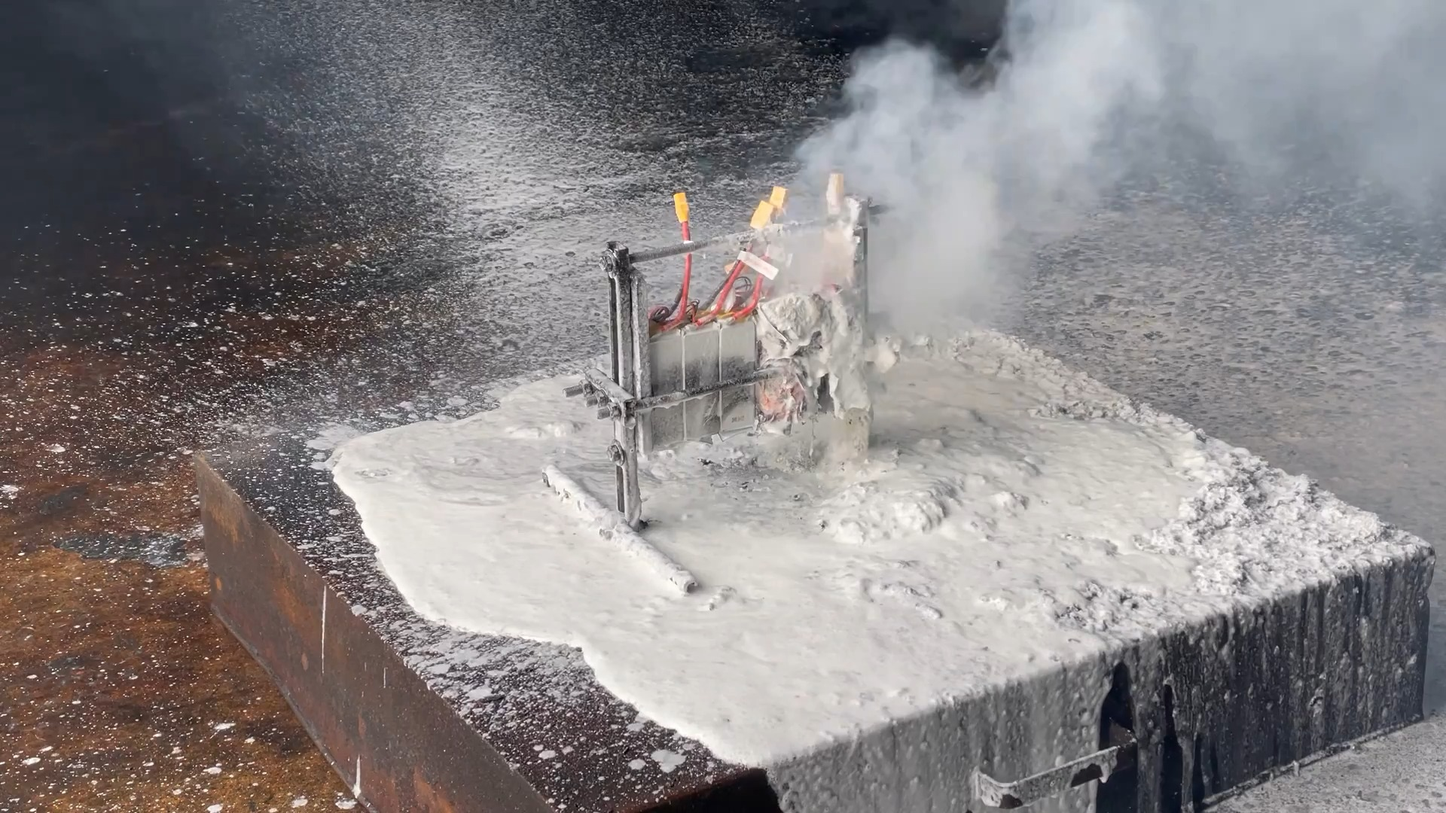smoke: (782, 1, 1445, 352)
